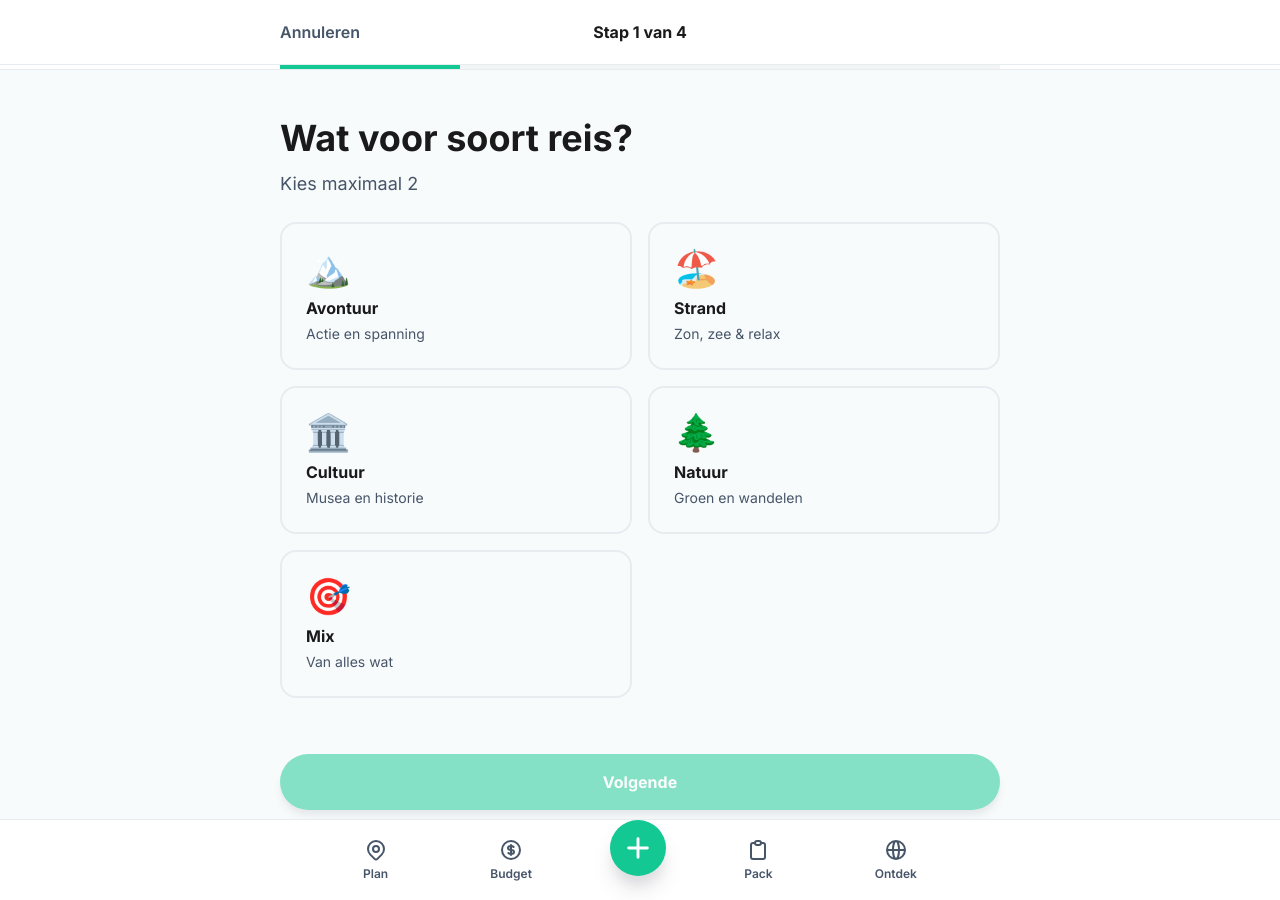
Test: NewTripForm Validation - Unit Tests › Step 1: Trip Type Validation › should enable next button when one trip type is selected
Click the button "🏔️ Avontuur Actie en spanning".
click(328, 268)  # box [280,222,632,370]
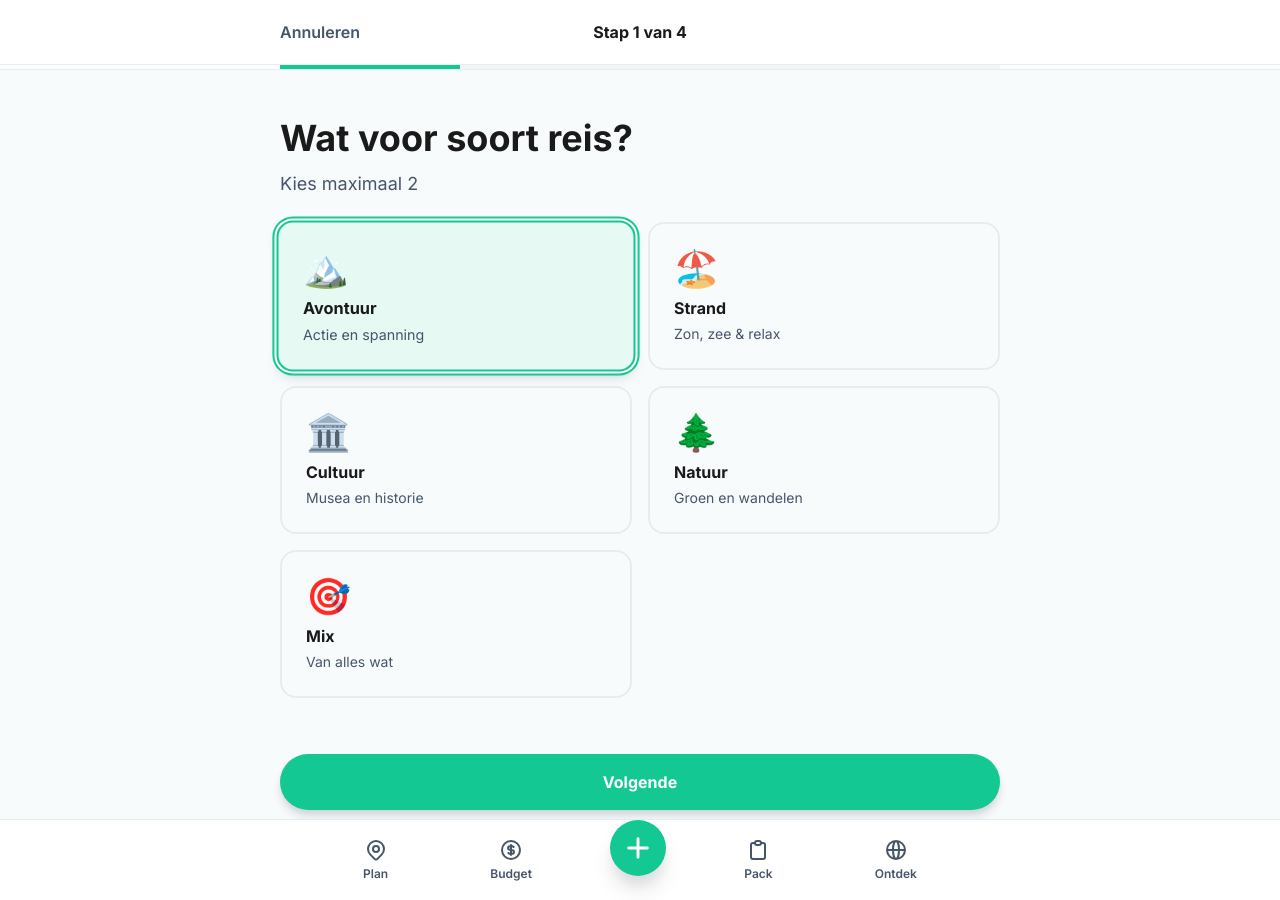
Expected: the button "Volgende" is enabled, [280,754,1000,810]
